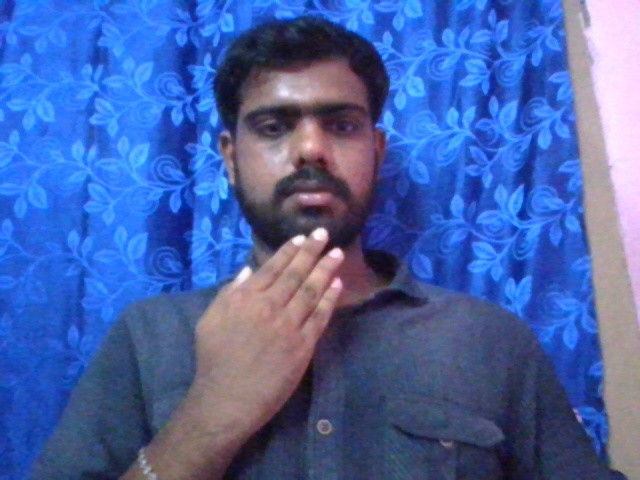Thanks: (197, 221, 346, 415)
